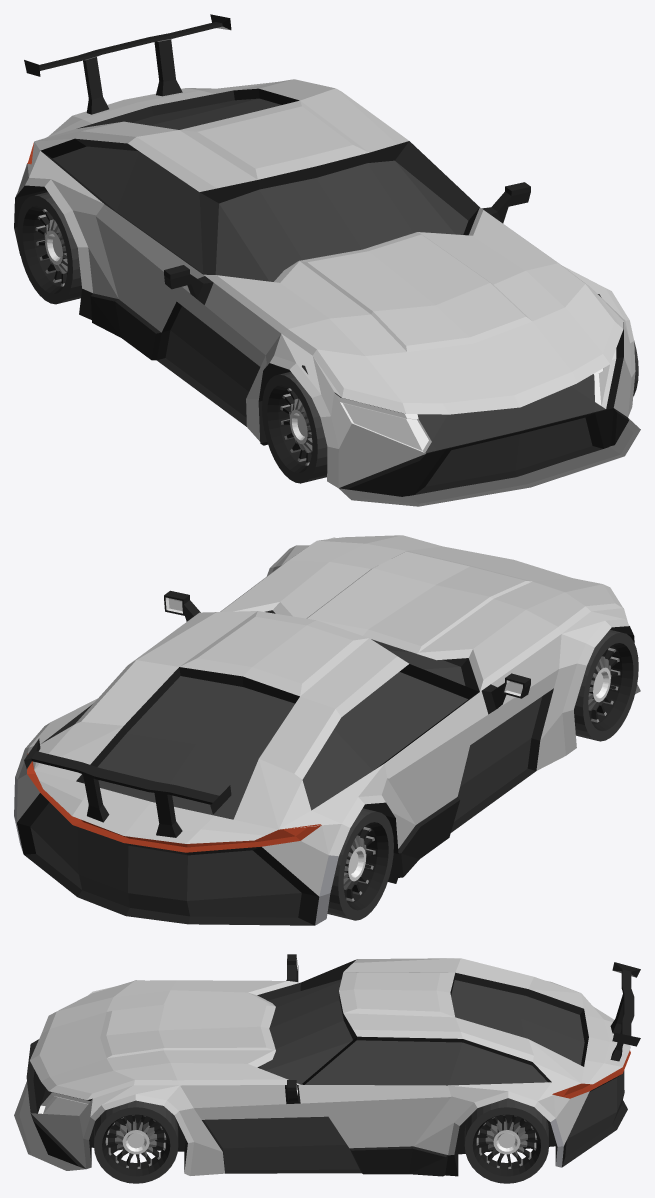
File: toyotagrgt3.fbx
3 renders of one model, top to bottom at view 1: azimuth 30°, elevation 25°; view 2: azimuth 150°, elevation 25°; view 3: azimuth 270°, elevation 25°, orthographic. The views are drawn at different scales.
Parts seen in each view (by area): view 1: WhiteBody, FrontRight, BackRight; view 2: WhiteBody, FrontRight, BackRight; view 3: WhiteBody, BackLeft, FrontLeft.
Boxes of the visible parts, left/top/right/bottom form: WhiteBody: left=14, top=14, right=640, bottom=506; FrontRight: left=262, top=371, right=327, bottom=483; BackRight: left=17, top=192, right=81, bottom=304; WhiteBody: left=14, top=535, right=640, bottom=925; FrontRight: left=574, top=630, right=638, bottom=741; BackRight: left=327, top=808, right=393, bottom=920; WhiteBody: left=14, top=954, right=640, bottom=1176; BackLeft: left=464, top=1098, right=548, bottom=1183; FrontLeft: left=94, top=1100, right=178, bottom=1183.
Bounding box in the file's own units: 2.35 × 4.67 × 1.11.
